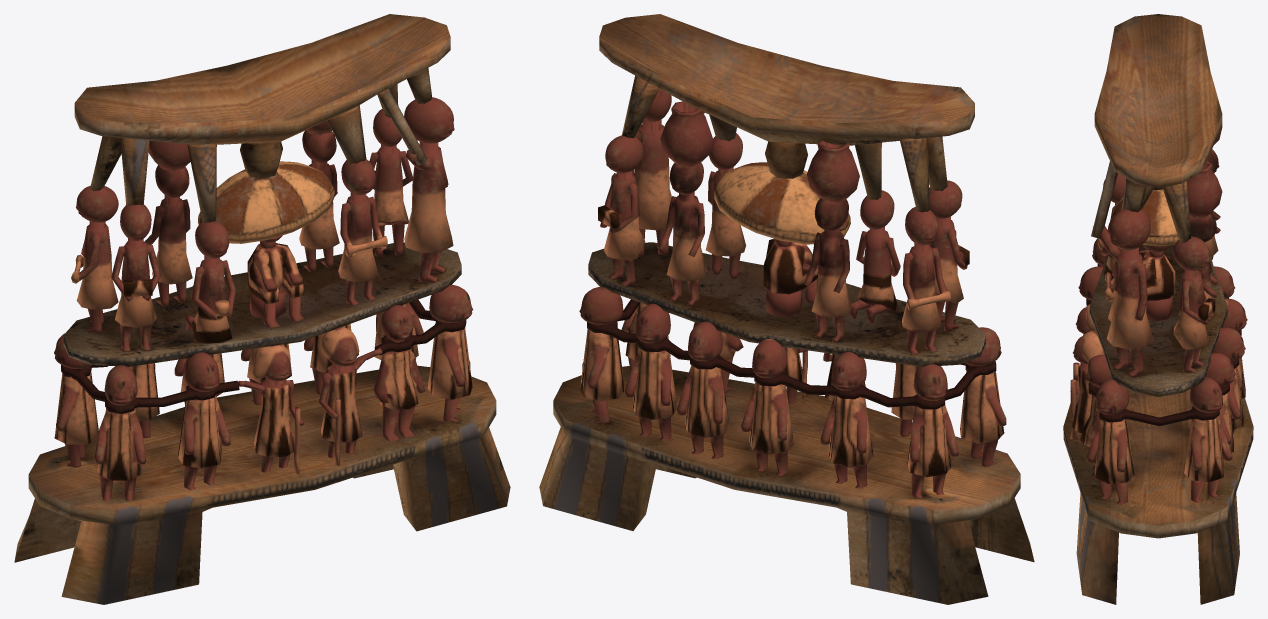
File: Trône de Cana.fbx
The picture shows the model from 3 angles, left to right: view 1: azimuth 30°, elevation 25°; view 2: azimuth 150°, elevation 25°; view 3: azimuth 270°, elevation 25°; orthographic projection. The views are drawn at different scales.
Parts seen in each view (by area): view 1: Plane, Plane.001, Parasol.005, Cylinder.008, Cylinder.007, Cylinder.001, Parasol.001, Parasol.004, Parasol.009, Cylinder.006, Cylinder.002, Cylinder.005 (+11 smaller); view 2: Plane, Plane.001, Cylinder.016, Cylinder.013, Cylinder.010, Cylinder.012, Cylinder.014, Parasol.008, Cylinder.009, Parasol.007, Parasol.009, Parasol.006 (+11 smaller); view 3: Plane, Parasol.005, Cylinder.006, Cylinder.015, Parasol.006, Parasol.003, Cylinder.002, Plane.001, Cylinder.013, Haut_2.003, Cylinder.016, Cylinder.014 (+10 smaller).
Boxes of the visible parts, bbox=[...] form: Plane: bbox=[14, 14, 510, 604]; Plane.001: bbox=[198, 161, 334, 243]; Parasol.005: bbox=[404, 97, 454, 282]; Cylinder.008: bbox=[94, 365, 145, 500]; Cylinder.007: bbox=[177, 352, 230, 490]; Cylinder.001: bbox=[238, 344, 304, 472]; Parasol.001: bbox=[111, 204, 161, 351]; Parasol.004: bbox=[338, 159, 386, 305]; Parasol.009: bbox=[76, 185, 118, 333]; Cylinder.006: bbox=[427, 284, 473, 421]; Cylinder.002: bbox=[319, 327, 382, 457]; Cylinder.005: bbox=[373, 305, 425, 441]; Plane: bbox=[539, 14, 1034, 604]; Plane.001: bbox=[714, 162, 850, 244]; Cylinder.016: bbox=[587, 299, 996, 409]; Cylinder.013: bbox=[677, 321, 729, 459]; Cylinder.010: bbox=[820, 351, 873, 488]; Cylinder.012: bbox=[741, 339, 793, 476]; Cylinder.014: bbox=[625, 303, 677, 441]; Parasol.008: bbox=[804, 198, 852, 342]; Cylinder.009: bbox=[907, 364, 958, 498]; Parasol.007: bbox=[658, 162, 706, 305]; Parasol.009: bbox=[902, 207, 946, 353]; Parasol.006: bbox=[600, 135, 645, 285]; Plane: bbox=[1063, 14, 1253, 604]; Parasol.005: bbox=[1100, 208, 1153, 377]; Cylinder.006: bbox=[1086, 379, 1134, 504]; Cylinder.015: bbox=[1184, 377, 1232, 502]; Parasol.006: bbox=[1173, 236, 1214, 372]; Parasol.003: bbox=[1139, 245, 1175, 321]; Cylinder.002: bbox=[1070, 330, 1104, 449]; Plane.001: bbox=[1112, 189, 1178, 246]; Cylinder.013: bbox=[1213, 327, 1245, 433]; Haut_2.003: bbox=[1187, 160, 1222, 218]; Cylinder.016: bbox=[1086, 264, 1241, 426]; Cylinder.014: bbox=[1205, 353, 1235, 459].
Size of the model in its own units: 1692 by 1643 by 685.
1 material, 1 textured.
